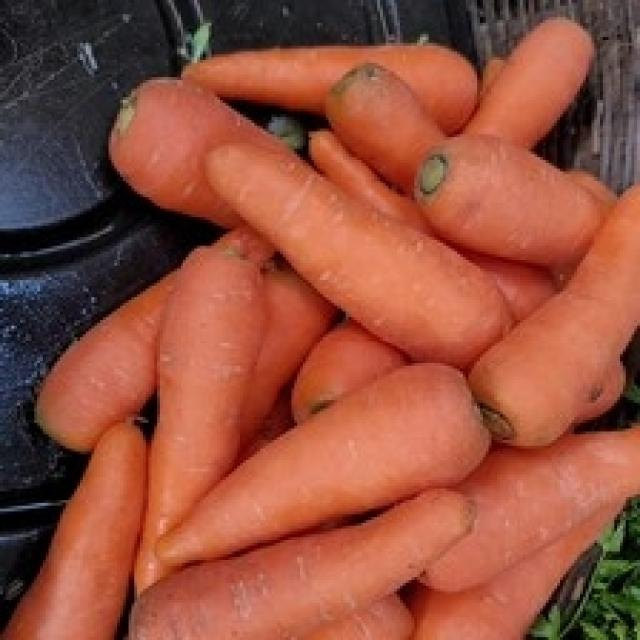carrot: (0, 17, 634, 634)
